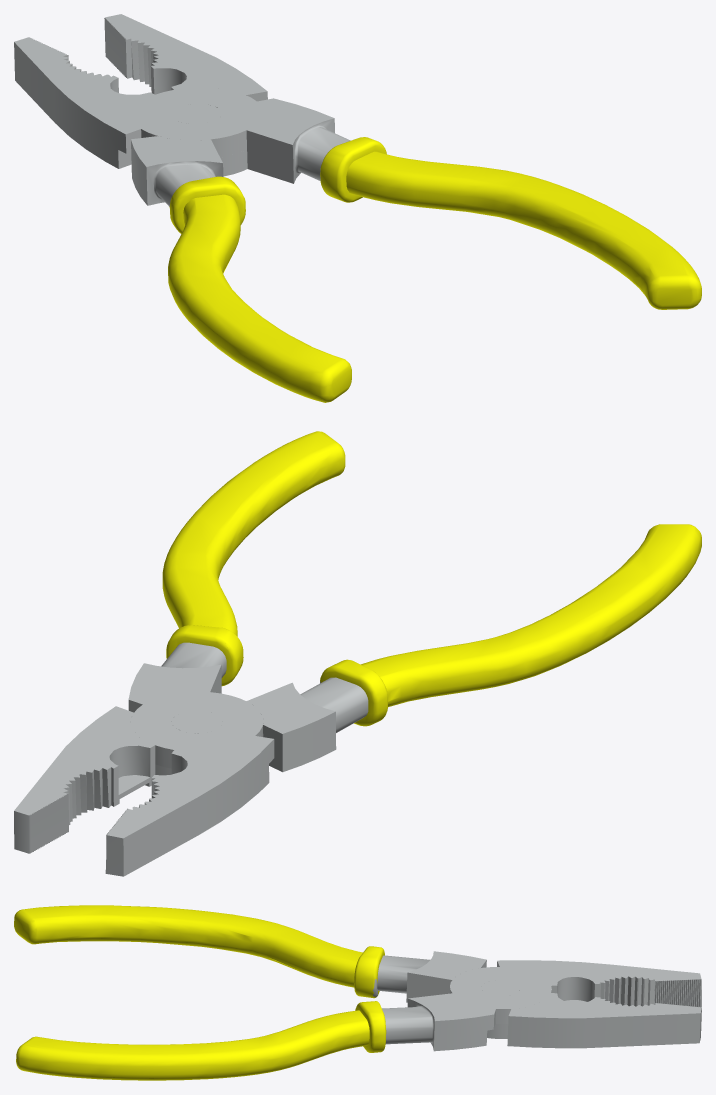
The model's file is 08-Plier.fbx.
The picture shows the model from 3 angles, top to bottom: view 1: azimuth 30°, elevation 25°; view 2: azimuth 150°, elevation 25°; view 3: azimuth 270°, elevation 25°; orthographic projection. The views are drawn at different scales.
Parts seen in each view (by area): view 1: Plier, Plier_A; view 2: Plier, Plier_A; view 3: Plier, Plier_A.
Boxes of the visible parts, x1,y1,x2,y2 form: Plier: (14,37,701,309); Plier_A: (104,14,351,402); Plier: (105,431,345,876); Plier_A: (14,524,701,853); Plier: (16,960,701,1080); Plier_A: (14,905,701,1048).
Size of the model in its own units: 16.54 by 2.39 by 30.
1 material, 1 textured.
